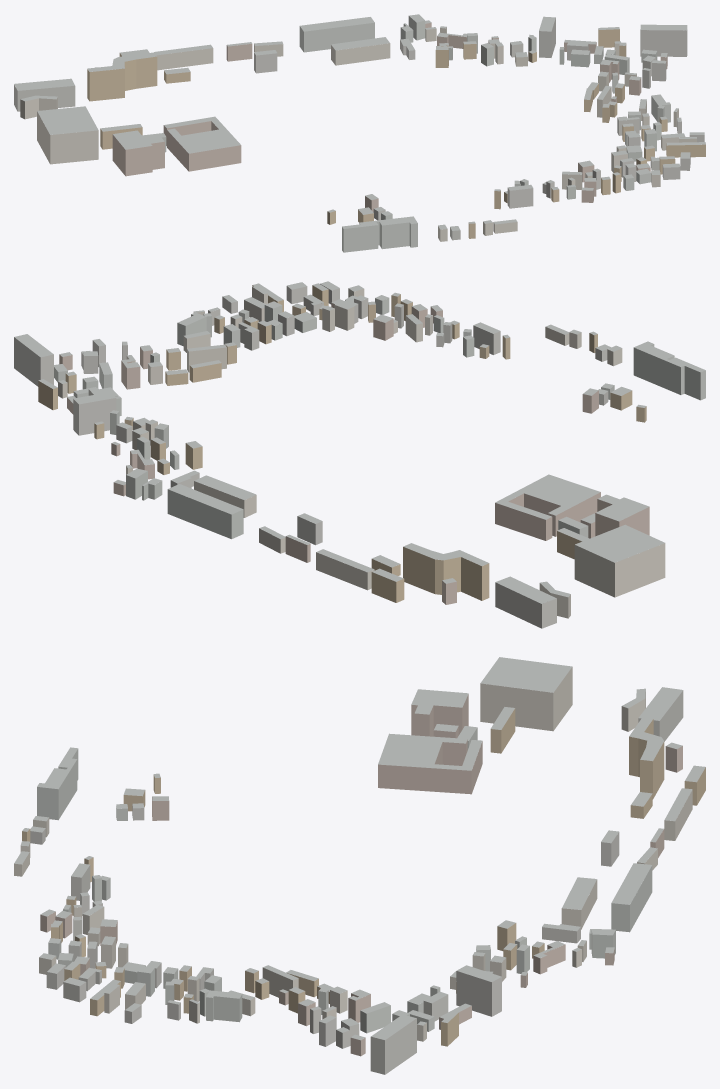
The model's file is d06_fucheng_context.glb.
3 renders of one model, top to bottom at view 1: azimuth 30°, elevation 25°; view 2: azimuth 150°, elevation 25°; view 3: azimuth 270°, elevation 25°, orthographic. The views are drawn at different scales.
Visible parts, largest first — view 1: fucheng_city_context; view 2: fucheng_city_context; view 3: fucheng_city_context.
Boxes of the visible parts, box(x1,y1,x2,y2) form: fucheng_city_context: box(14, 14, 705, 252); fucheng_city_context: box(14, 281, 705, 628); fucheng_city_context: box(14, 657, 705, 1074).
Size of the model in its own units: 685 by 32.36 by 528.
